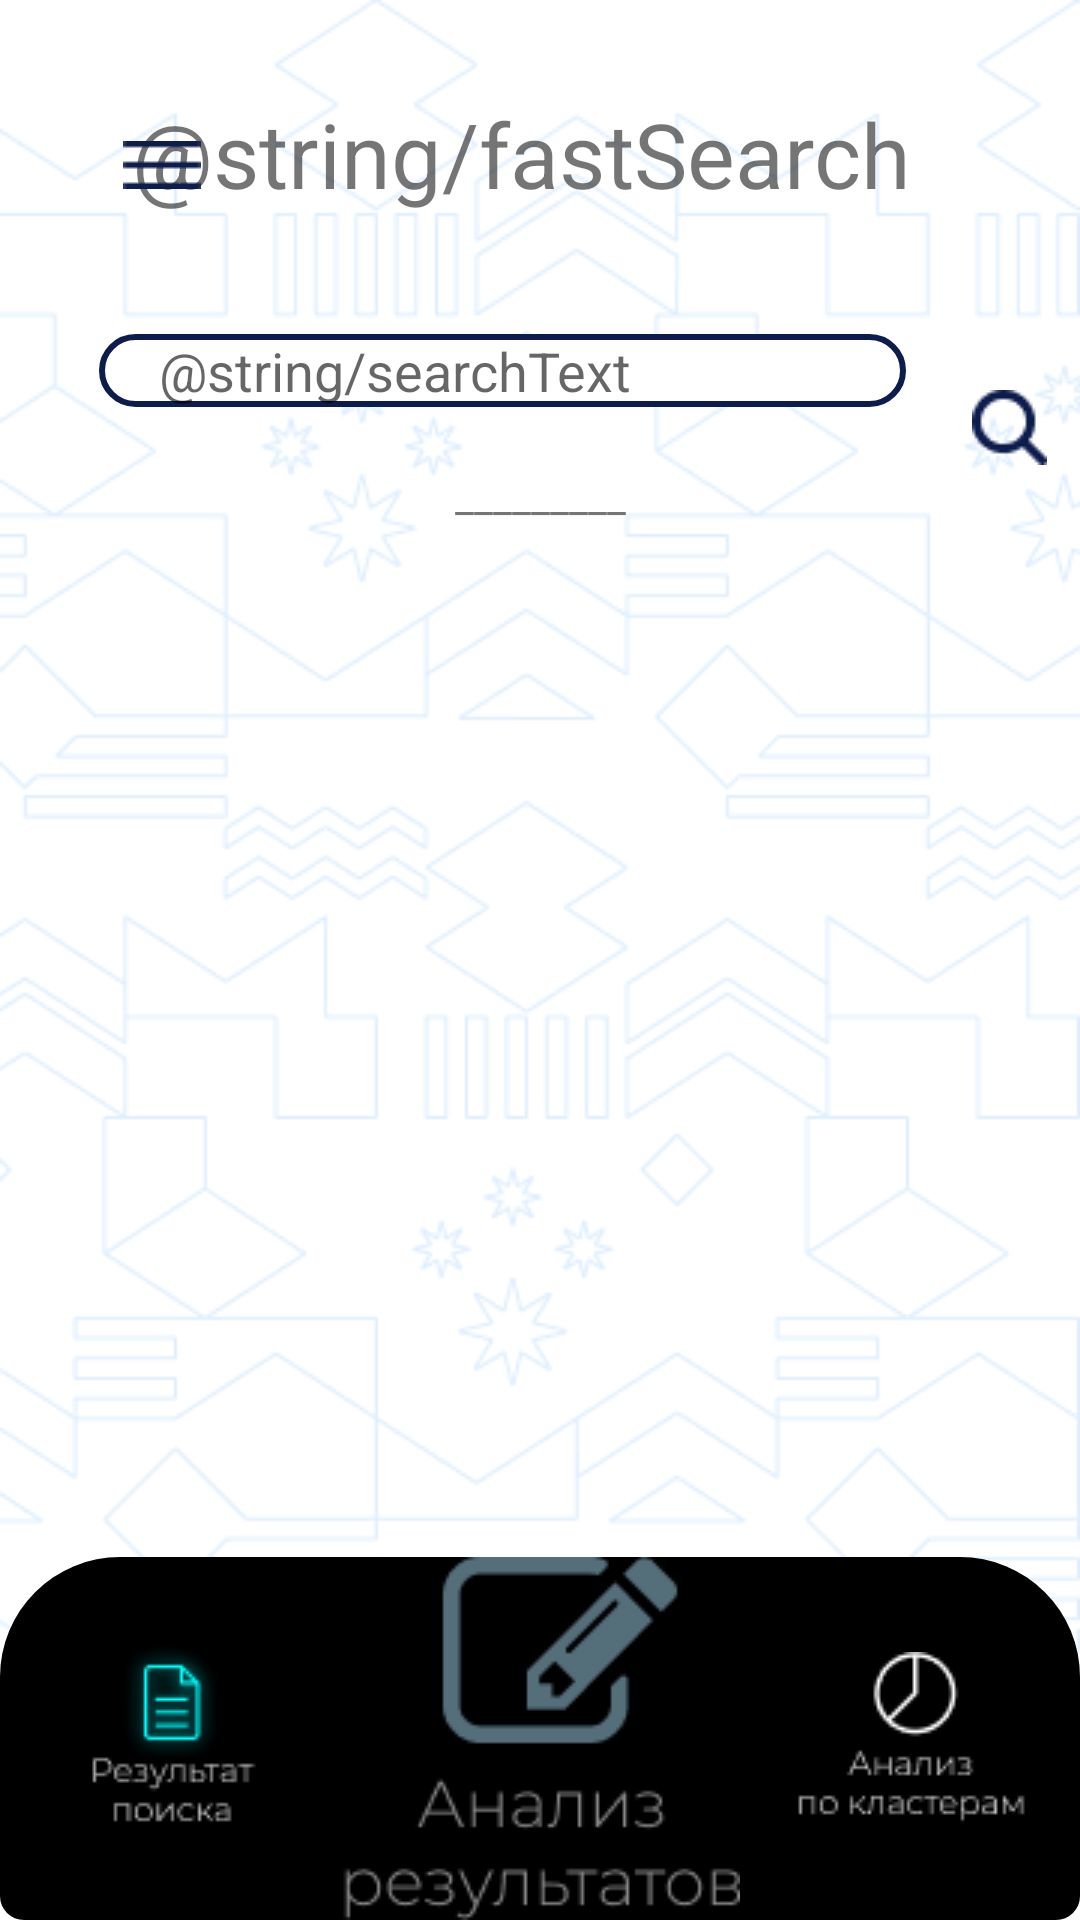

Where icons sit on this 1080×1920 app screen, as [left=x1, top=y1, right=x2, bottom=y2]:
loup: [left=967, top=390, right=1067, bottom=465]
